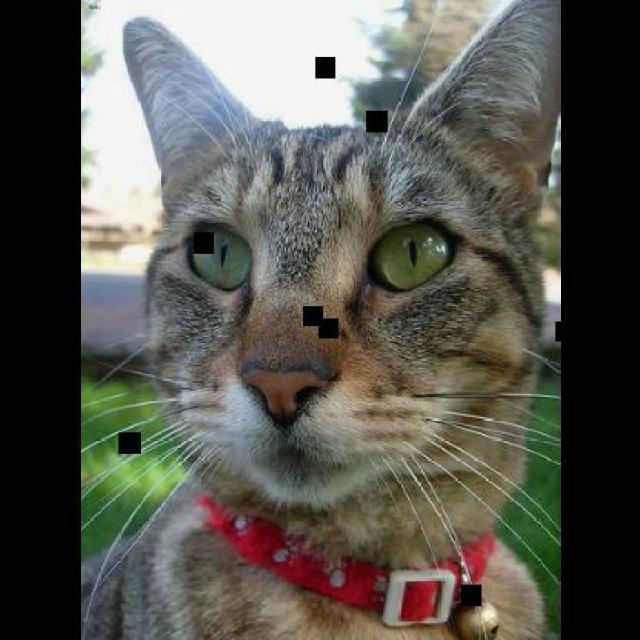unauthorized: (77, 0, 560, 638)
